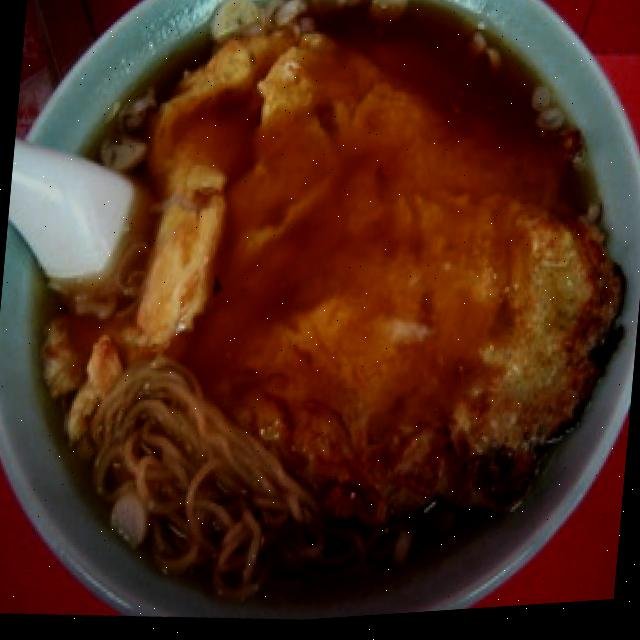面条主食: (3, 0, 637, 640)
